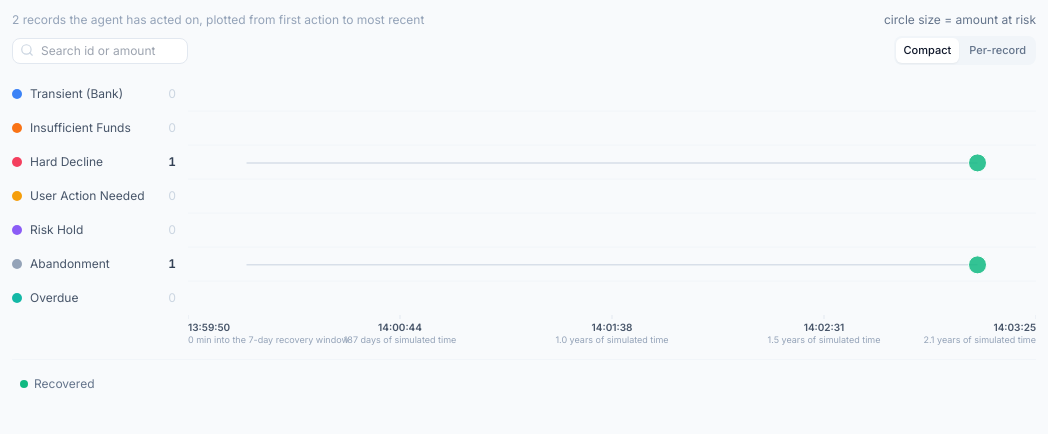
HistoryTimeline: compact view is the default (Unit AP) › isolates a bucket on click and restores the full view on a second click
The width and height of the screenshot is (1048, 434).
Click the button "Abandonment 1": point(100, 264) [12,246,188,280]
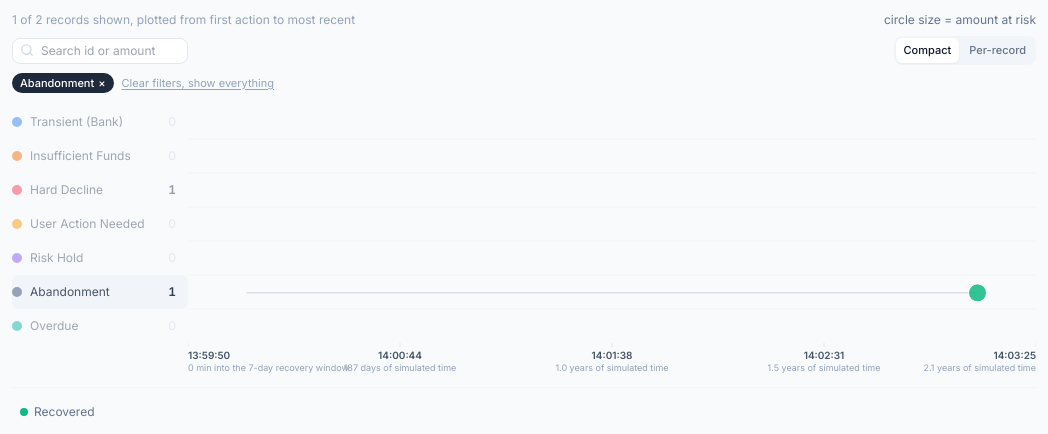
Expected: the button with test id "active-filter-bucket" shows "Abandonment", [12,72,114,93]
Click the button "Abandonment 1": point(100, 292) [12,275,188,309]
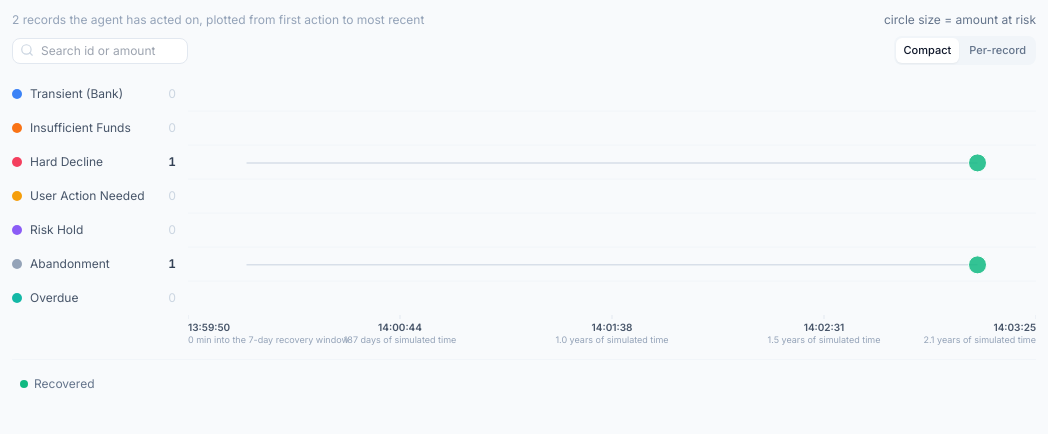
Expected: the button with test id "active-filter-bucket" is gone
